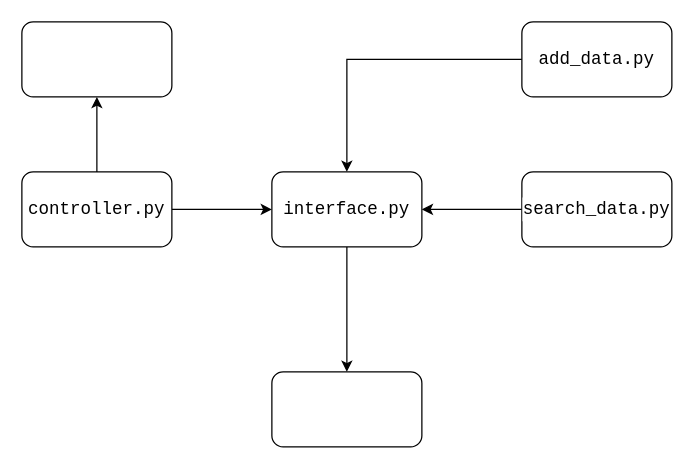
Image size: 694x469. Some labels were removed from this diagram. The centre of each missing label's shape, as x and y in pixels:
function.py: the point at 96,59
main.py: the point at 346,409
